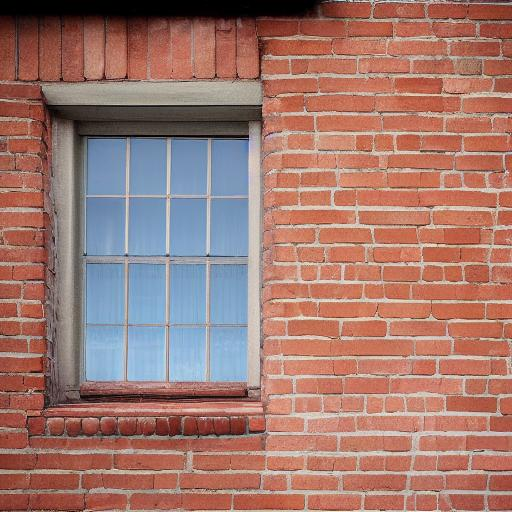Window: (28, 80, 269, 437)
